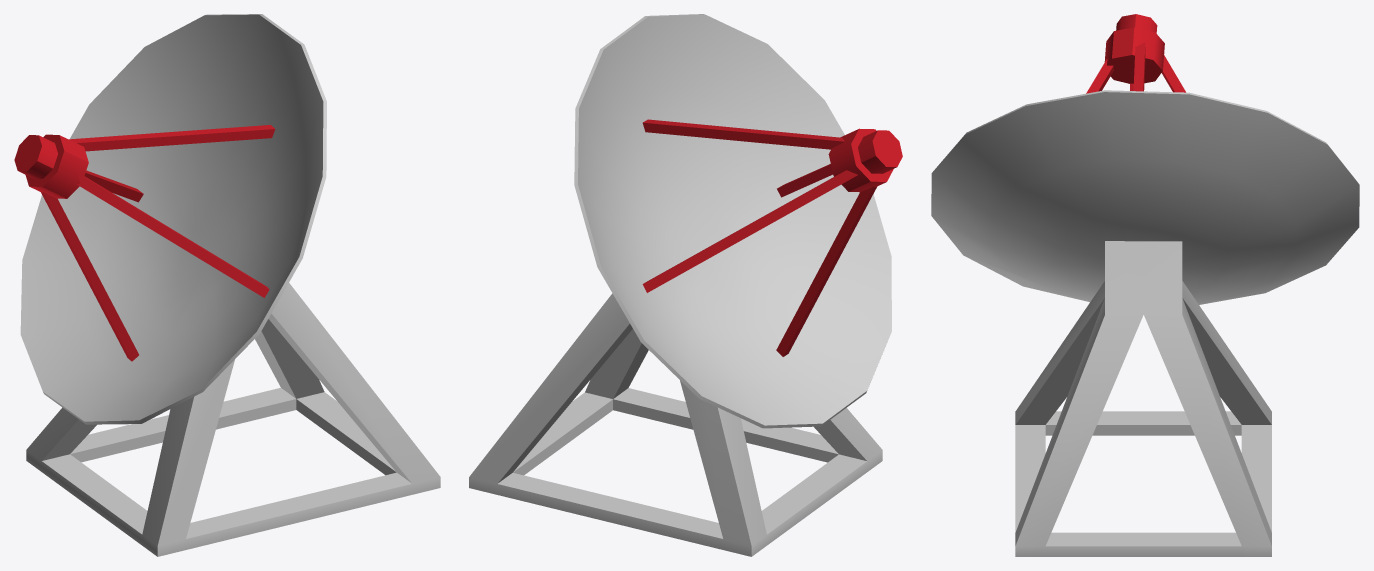
Rendered from FBX_Satellite_Dish_A.fbx.
3 views of the same model, side by side, from view 1: azimuth 30°, elevation 25°; view 2: azimuth 150°, elevation 25°; view 3: azimuth 270°, elevation 25° (orthographic). The views are drawn at different scales.
Parts seen in each view (by area): view 1: Satellite_Dish_A; view 2: Satellite_Dish_A; view 3: Satellite_Dish_A.
Part boxes in pixels (<box>): Satellite_Dish_A: <box>14,14,440,556</box>; Satellite_Dish_A: <box>469,14,902,556</box>; Satellite_Dish_A: <box>931,14,1359,556</box>.
Size of the model in its own units: 2.07 by 2.37 by 2.18.
